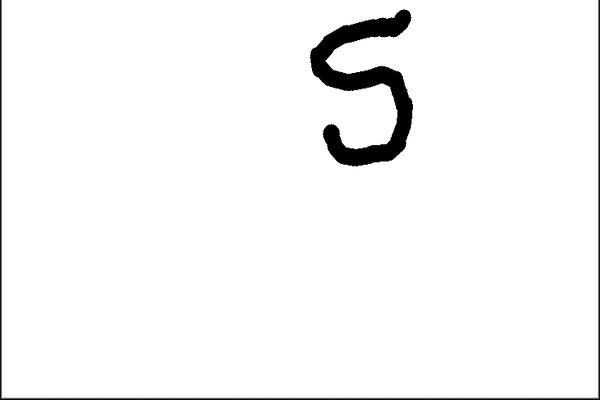S: (299, 5, 426, 174)
